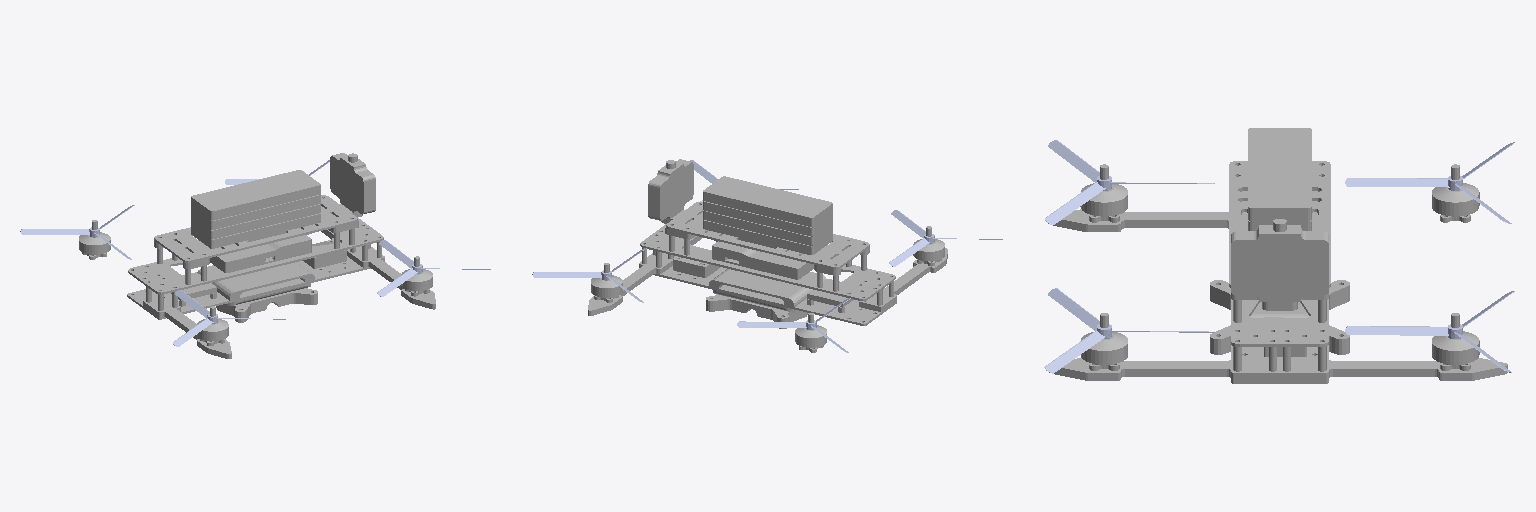
robot.urdf — lqd_copter:
<?xml version="1.0" encoding="utf-8"?>
<!-- This URDF was automatically created by SolidWorks to URDF Exporter! Originally created by Stephen Brawner (brawner@gmail.com) 
     Commit Version: 1.6.0-4-g7f85cfe  Build Version: 1.6.7995.38578
     For more information, please see http://wiki.ros.org/sw_urdf_exporter -->
<robot
  name="lqd_copter">
  <link
    name="base_link">
    <inertial>
      <origin
        xyz="0.00617482473041862 0.0001794251338575 0.0305480560501509"
        rpy="0 0 0" />
      <mass
        value="0.520683001445861" />
      <inertia
        ixx="0.00022133897180325"
        ixy="9.35007659910226E-08"
        ixz="-4.41707710385004E-07"
        iyy="0.000663805246005948"
        iyz="3.14719958252571E-08"
        izz="0.000846808483271881" />
    </inertial>
    <visual>
      <origin
        xyz="0 0 0"
        rpy="0 0 0" />
      <geometry>
        <mesh
          filename="package://lqd_copter/meshes/base_link.STL" />
      </geometry>
      <material
        name="">
        <color
          rgba="0.752941176470588 0.752941176470588 0.752941176470588 1" />
      </material>
    </visual>
    <collision>
      <origin
        xyz="0 0 0"
        rpy="0 0 0" />
      <geometry>
        <mesh
          filename="package://lqd_copter/meshes/base_link.STL" />
      </geometry>
    </collision>
  </link>
  <link
    name="properller_1_link">
    <inertial>
      <origin
        xyz="1.15927733732035E-07 -7.7607819781722E-08 0.00299996183994355"
        rpy="0 0 0" />
      <mass
        value="0.000586847952012767" />
      <inertia
        ixx="2.28133573781215E-07"
        ixy="-2.6421305426285E-12"
        ixz="-1.70721687755119E-13"
        iyy="2.28130279887108E-07"
        iyz="4.22761169336475E-14"
        izz="4.54197545572969E-07" />
    </inertial>
    <visual>
      <origin
        xyz="0 0 0"
        rpy="0 0 0" />
      <geometry>
        <mesh
          filename="package://lqd_copter/meshes/properller_1_link.STL" />
      </geometry>
      <material
        name="">
        <color
          rgba="0.792156862745098 0.819607843137255 0.933333333333333 1" />
      </material>
    </visual>
    <collision>
      <origin
        xyz="0 0 0"
        rpy="0 0 0" />
      <geometry>
        <mesh
          filename="package://lqd_copter/meshes/properller_1_link.STL" />
      </geometry>
    </collision>
  </link>
  <joint
    name="properller_1"
    type="continuous">
    <origin
      xyz="0.1 -0.1 0.025"
      rpy="0 0 1.029" />
    <parent
      link="base_link" />
    <child
      link="properller_1_link" />
    <axis
      xyz="0 0 1" />
  </joint>
  <link
    name="properller_2_link">
    <inertial>
      <origin
        xyz="1.58023450338995E-07 -1.19410335966408E-07 0.0029999783646267"
        rpy="0 0 0" />
      <mass
        value="0.000586848605005601" />
      <inertia
        ixx="2.28134297656071E-07"
        ixy="-2.6731348083724E-12"
        ixz="-9.87488189306748E-14"
        iyy="2.28130299898496E-07"
        iyz="-1.99864020864917E-13"
        izz="4.54198247223058E-07" />
    </inertial>
    <visual>
      <origin
        xyz="0 0 0"
        rpy="0 0 0" />
      <geometry>
        <mesh
          filename="package://lqd_copter/meshes/properller_2_link.STL" />
      </geometry>
      <material
        name="">
        <color
          rgba="0.792156862745098 0.819607843137255 0.933333333333333 1" />
      </material>
    </visual>
    <collision>
      <origin
        xyz="0 0 0"
        rpy="0 0 0" />
      <geometry>
        <mesh
          filename="package://lqd_copter/meshes/properller_2_link.STL" />
      </geometry>
    </collision>
  </link>
  <joint
    name="properller_2"
    type="continuous">
    <origin
      xyz="-0.1 0.1 0.025"
      rpy="0 0 -2.1126" />
    <parent
      link="base_link" />
    <child
      link="properller_2_link" />
    <axis
      xyz="0 0 1" />
  </joint>
  <link
    name="properller_3_link">
    <inertial>
      <origin
        xyz="1.37282998108335E-07 -1.14992715516404E-07 0.00299996862418647"
        rpy="0 0 0" />
      <mass
        value="0.000586848978839478" />
      <inertia
        ixx="2.28134199017239E-07"
        ixy="-2.63292224305926E-12"
        ixz="-3.35523316689599E-13"
        iyy="2.28130746866247E-07"
        iyz="-5.71410732038244E-14"
        izz="4.5419857123494E-07" />
    </inertial>
    <visual>
      <origin
        xyz="0 0 0"
        rpy="0 0 0" />
      <geometry>
        <mesh
          filename="package://lqd_copter/meshes/properller_3_link.STL" />
      </geometry>
      <material
        name="">
        <color
          rgba="0.792156862745098 0.819607843137255 0.933333333333333 1" />
      </material>
    </visual>
    <collision>
      <origin
        xyz="0 0 0"
        rpy="0 0 0" />
      <geometry>
        <mesh
          filename="package://lqd_copter/meshes/properller_3_link.STL" />
      </geometry>
    </collision>
  </link>
  <joint
    name="properller_3"
    type="continuous">
    <origin
      xyz="0.1 0.1 0.025"
      rpy="0 0 -2.1126" />
    <parent
      link="base_link" />
    <child
      link="properller_3_link" />
    <axis
      xyz="0 0 1" />
  </joint>
  <link
    name="properller_4_link">
    <inertial>
      <origin
        xyz="1.64831467031057E-07 -9.90812103196514E-08 0.00299996842771919"
        rpy="0 0 0" />
      <mass
        value="0.000586848223917086" />
      <inertia
        ixx="2.28133952278026E-07"
        ixy="-2.45154982826056E-12"
        ixz="-9.43629479878972E-14"
        iyy="2.28130296017763E-07"
        iyz="-4.80234773537992E-13"
        izz="4.54197922772978E-07" />
    </inertial>
    <visual>
      <origin
        xyz="0 0 0"
        rpy="0 0 0" />
      <geometry>
        <mesh
          filename="package://lqd_copter/meshes/properller_4_link.STL" />
      </geometry>
      <material
        name="">
        <color
          rgba="0.792156862745098 0.819607843137255 0.933333333333333 1" />
      </material>
    </visual>
    <collision>
      <origin
        xyz="0 0 0"
        rpy="0 0 0" />
      <geometry>
        <mesh
          filename="package://lqd_copter/meshes/properller_4_link.STL" />
      </geometry>
    </collision>
  </link>
  <joint
    name="properller_4"
    type="continuous">
    <origin
      xyz="-0.1 -0.1 0.025"
      rpy="0 0 1.029" />
    <parent
      link="base_link" />
    <child
      link="properller_4_link" />
    <axis
      xyz="0 0 1" />
  </joint>
</robot>

--- What the picture shows (computed from the rendered views, not written in the file) ---
Views: 3 orthographic renders of the robot side by side, from view 1: azimuth 30°, elevation 25°; view 2: azimuth 150°, elevation 25°; view 3: azimuth 270°, elevation 25°.
Robot: lqd_copter — 5 links, 4 joints (4 continuous); root link base_link; default pose: all joints at 0.
Links seen in each view (by area): view 1: base_link, properller_1_link, properller_4_link, properller_2_link; view 2: base_link, properller_4_link, properller_2_link, properller_3_link; view 3: base_link, properller_1_link, properller_4_link, properller_3_link, properller_2_link.
Boxes of the visible links, x1,y1,x2,y2 form: base_link: (79,153,435,358); properller_1_link: (377,240,490,296); properller_4_link: (173,290,285,346); properller_2_link: (20,205,134,259); base_link: (588,159,947,352); properller_4_link: (889,210,1002,266); properller_2_link: (737,298,850,352); properller_3_link: (532,248,646,302); base_link: (1053,128,1507,383); properller_1_link: (1044,288,1214,373); properller_4_link: (1045,140,1214,224); properller_3_link: (1345,291,1514,372); properller_2_link: (1345,142,1514,223).
Bounding box of the posed robot: 0.3111 × 0.2684 × 0.1097 m (x, y, z).
Meshes: 5 distinct files referenced, 5 mesh visuals loaded (5 binary STL).
